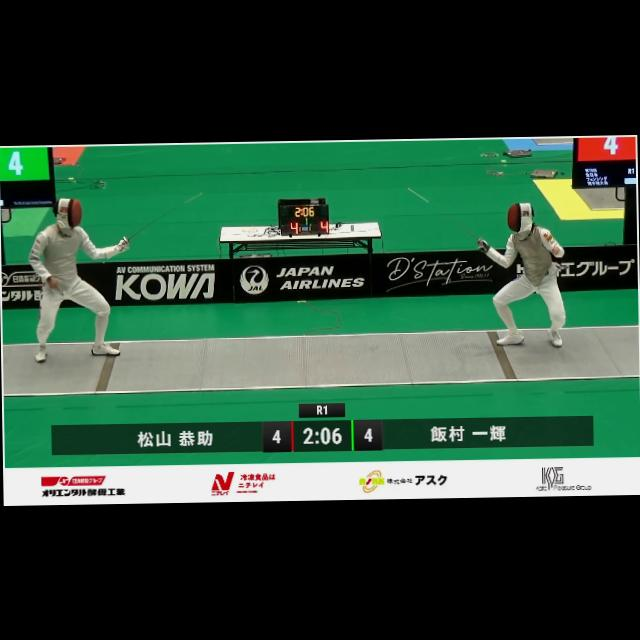blade: (405, 180, 493, 251), (113, 188, 210, 248)
